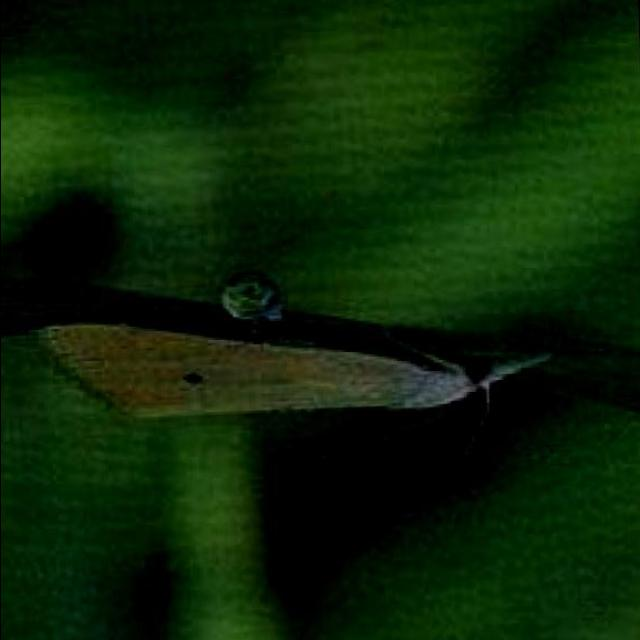stem borer: (39, 276, 546, 417)
